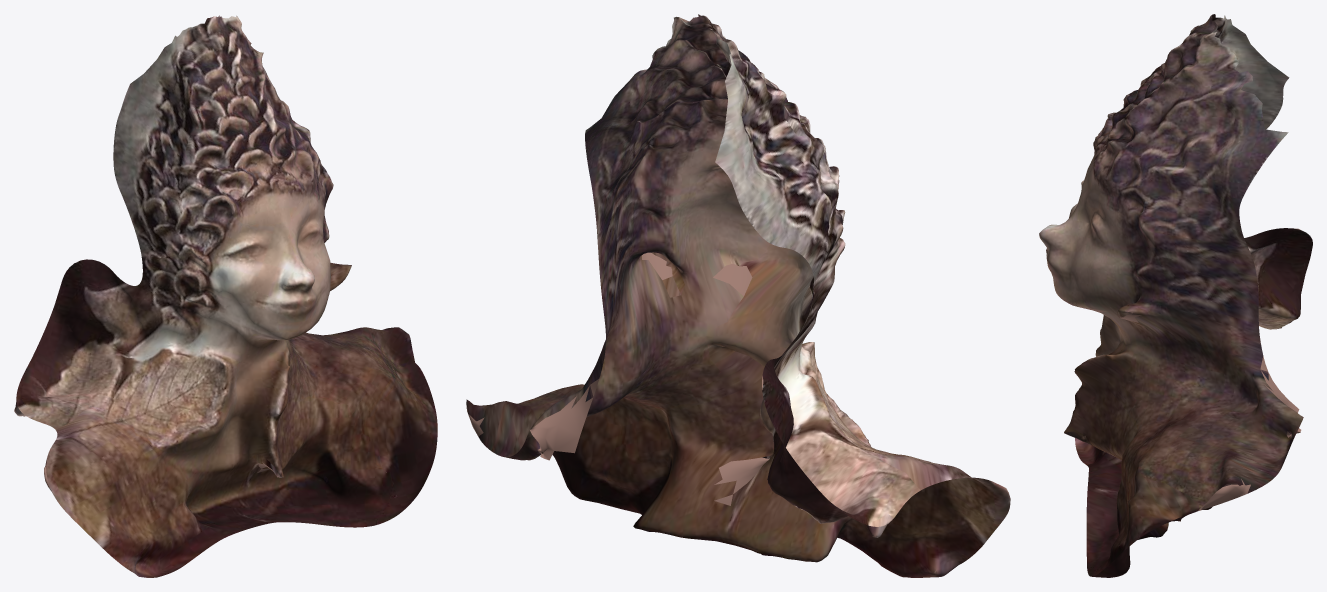
The model's file is ladyHead.obj.
3 renders of one model, left to right at view 1: azimuth 30°, elevation 25°; view 2: azimuth 150°, elevation 25°; view 3: azimuth 270°, elevation 25°, orthographic. The views are drawn at different scales.
Bounding box in the file's own units: 25.1 × 28.69 × 14.15.
Materials: 1 (1 with a texture image).
